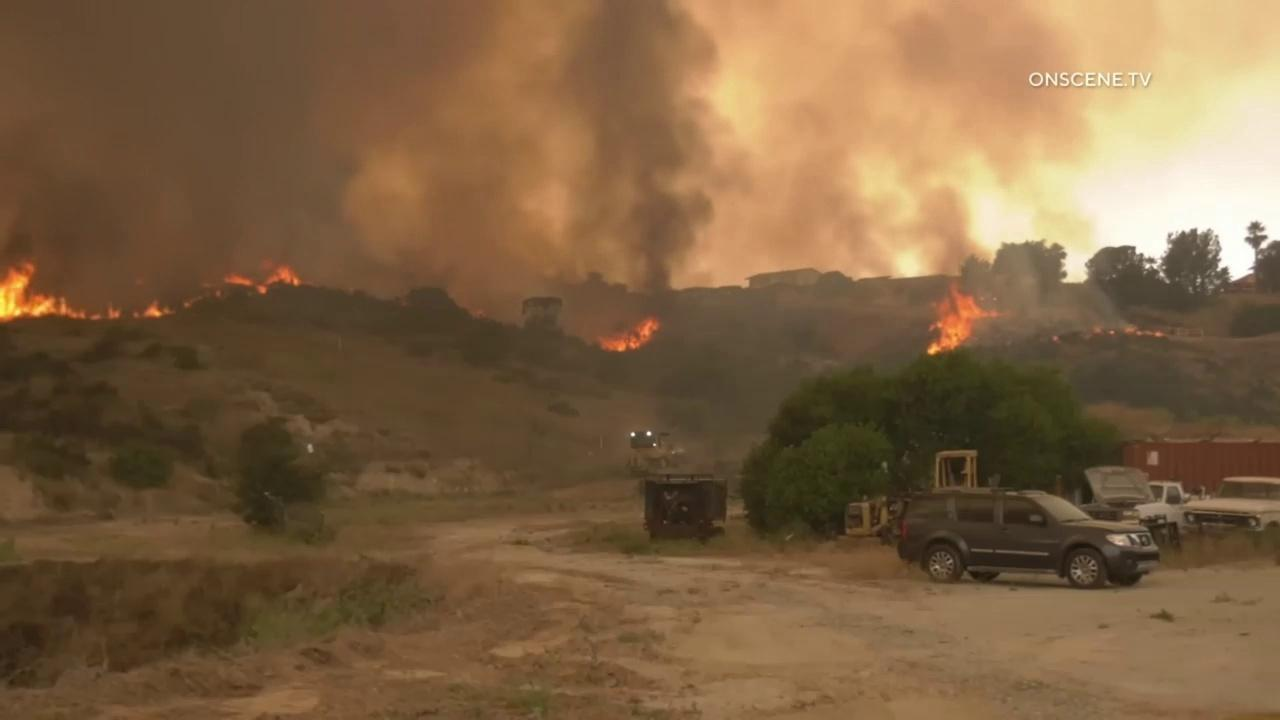fire: (0, 260, 102, 321), (927, 280, 1006, 357), (224, 262, 304, 295), (596, 318, 662, 352), (132, 298, 176, 318), (106, 305, 121, 320), (1122, 325, 1143, 335), (1153, 330, 1163, 338), (183, 302, 192, 308), (215, 290, 221, 297), (1109, 330, 1116, 335), (1052, 336, 1059, 341)
smoke: (0, 0, 1280, 344)
